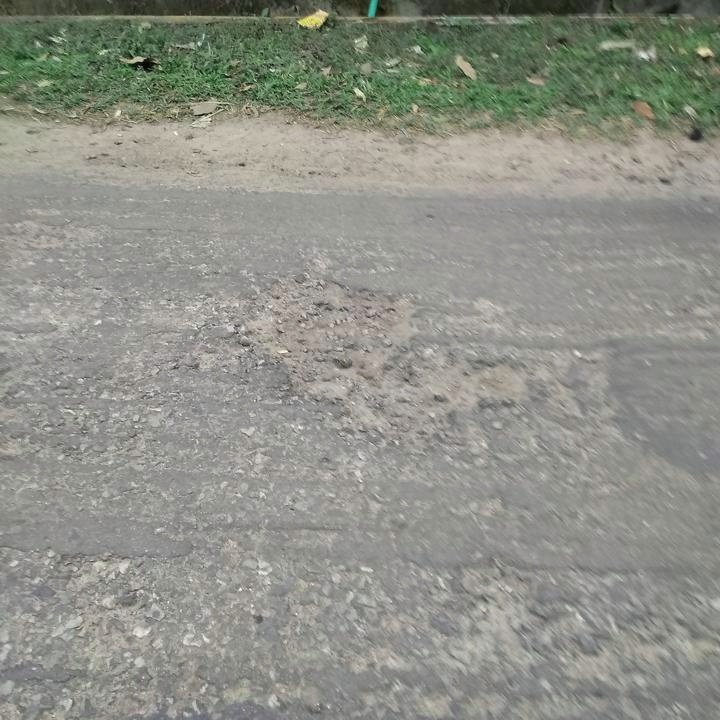pothole: (233, 261, 531, 437)
